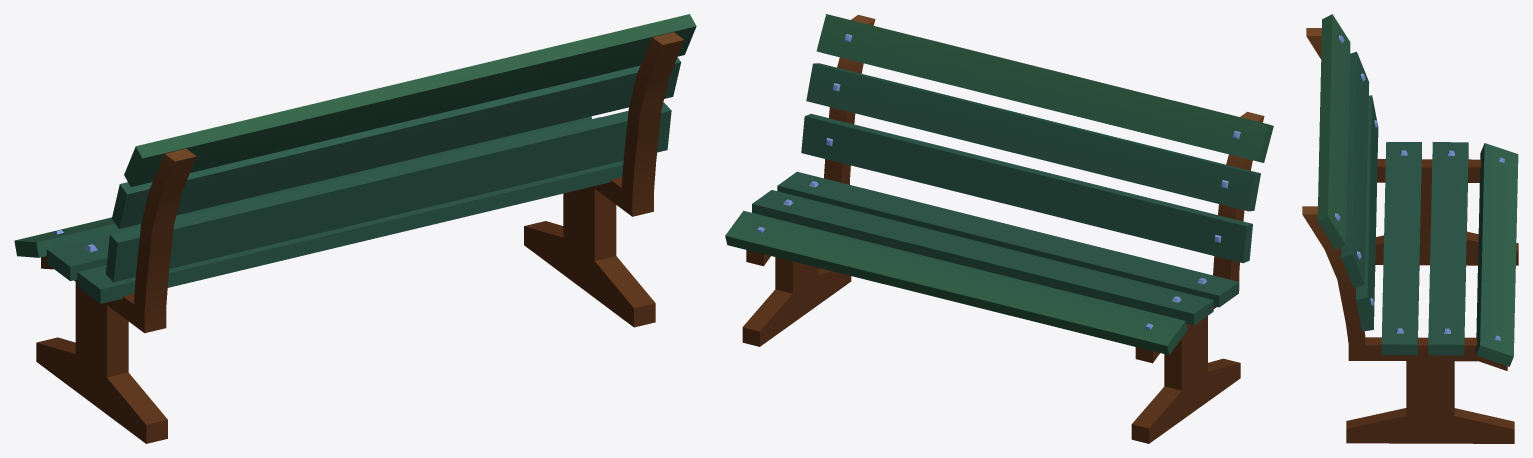
File: Bench.FBX
3 views of the same model, side by side, from view 1: azimuth 30°, elevation 25°; view 2: azimuth 150°, elevation 25°; view 3: azimuth 270°, elevation 25° (orthographic). The views are drawn at different scales.
Parts seen in each view (by area): view 1: pasted__Bench; view 2: pasted__Bench; view 3: pasted__Bench.
Part boxes in pixels (x1,y1,x2,y2): pasted__Bench: [14, 14, 696, 443]; pasted__Bench: [725, 14, 1273, 443]; pasted__Bench: [1302, 14, 1518, 443].
Bounding box in the file's own units: 64.84 × 34.93 × 29.2.
